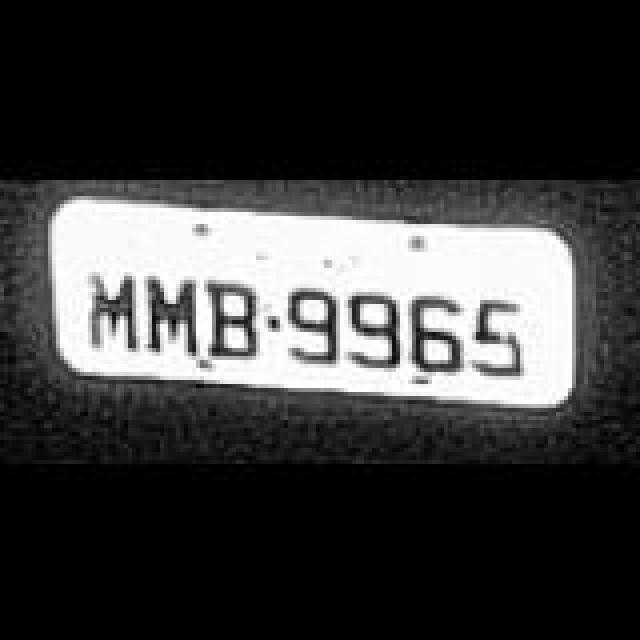5: (476, 296, 532, 376)
6: (408, 292, 464, 372)
9: (286, 286, 346, 362), (348, 290, 404, 366)
B: (208, 276, 264, 356)
M: (144, 270, 200, 354), (88, 268, 144, 348)
